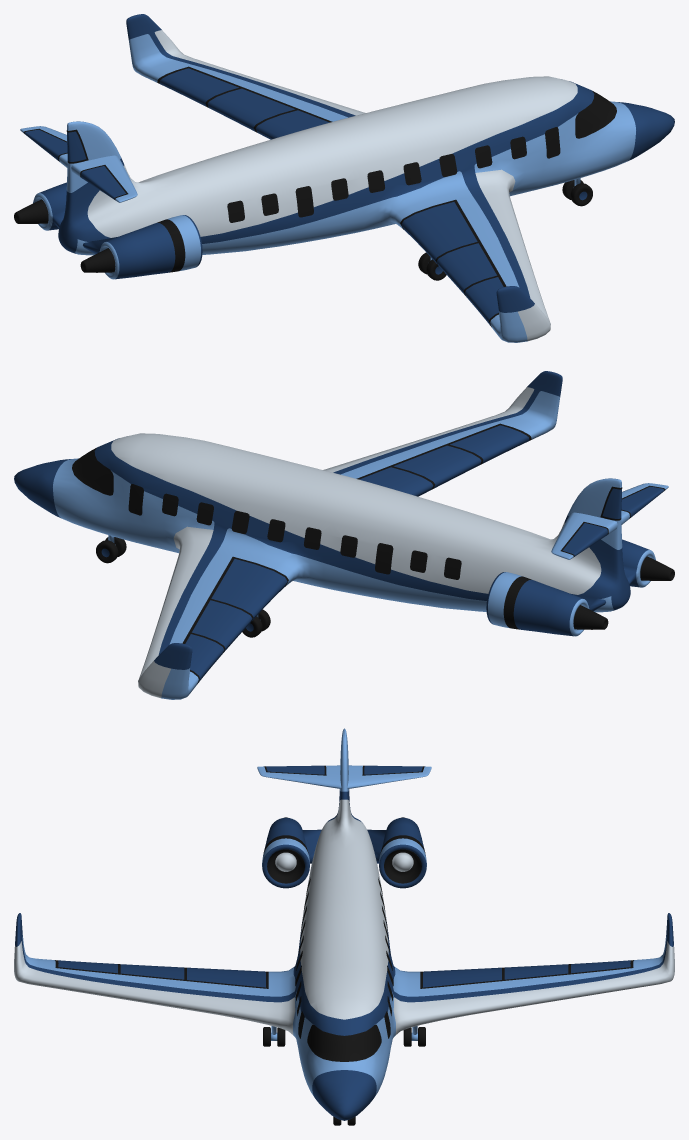
Rendered from airplane.glb.
3 renders of one model, top to bottom at view 1: azimuth 30°, elevation 25°; view 2: azimuth 150°, elevation 25°; view 3: azimuth 270°, elevation 25°, orthographic. The views are drawn at different scales.
Parts seen in each view (by area): view 1: 18.3.Airplane; view 2: 18.3.Airplane; view 3: 18.3.Airplane.
Part boxes in pixels (bbox=[...]): 18.3.Airplane: bbox=[14, 14, 674, 342]; 18.3.Airplane: bbox=[14, 371, 674, 699]; 18.3.Airplane: bbox=[14, 728, 674, 1125].
Size of what is drawn, in the model's own units: 55.8 by 17.36 by 58.31.
1 material, 1 textured.
